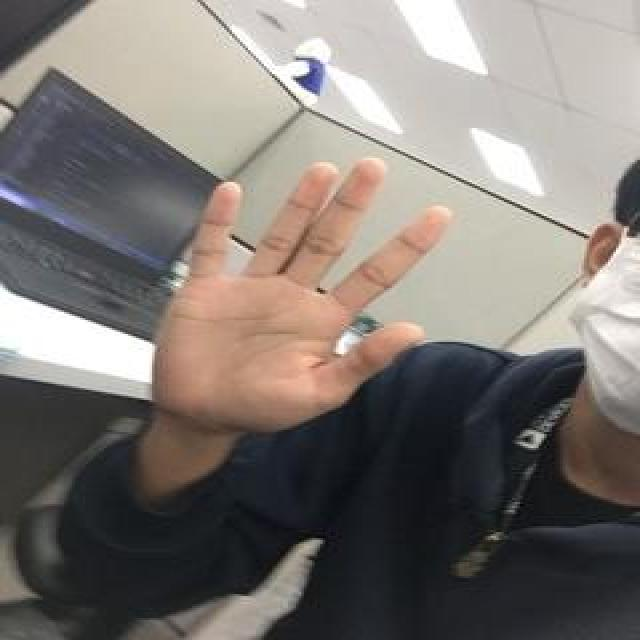hand: (147, 151, 461, 427)
